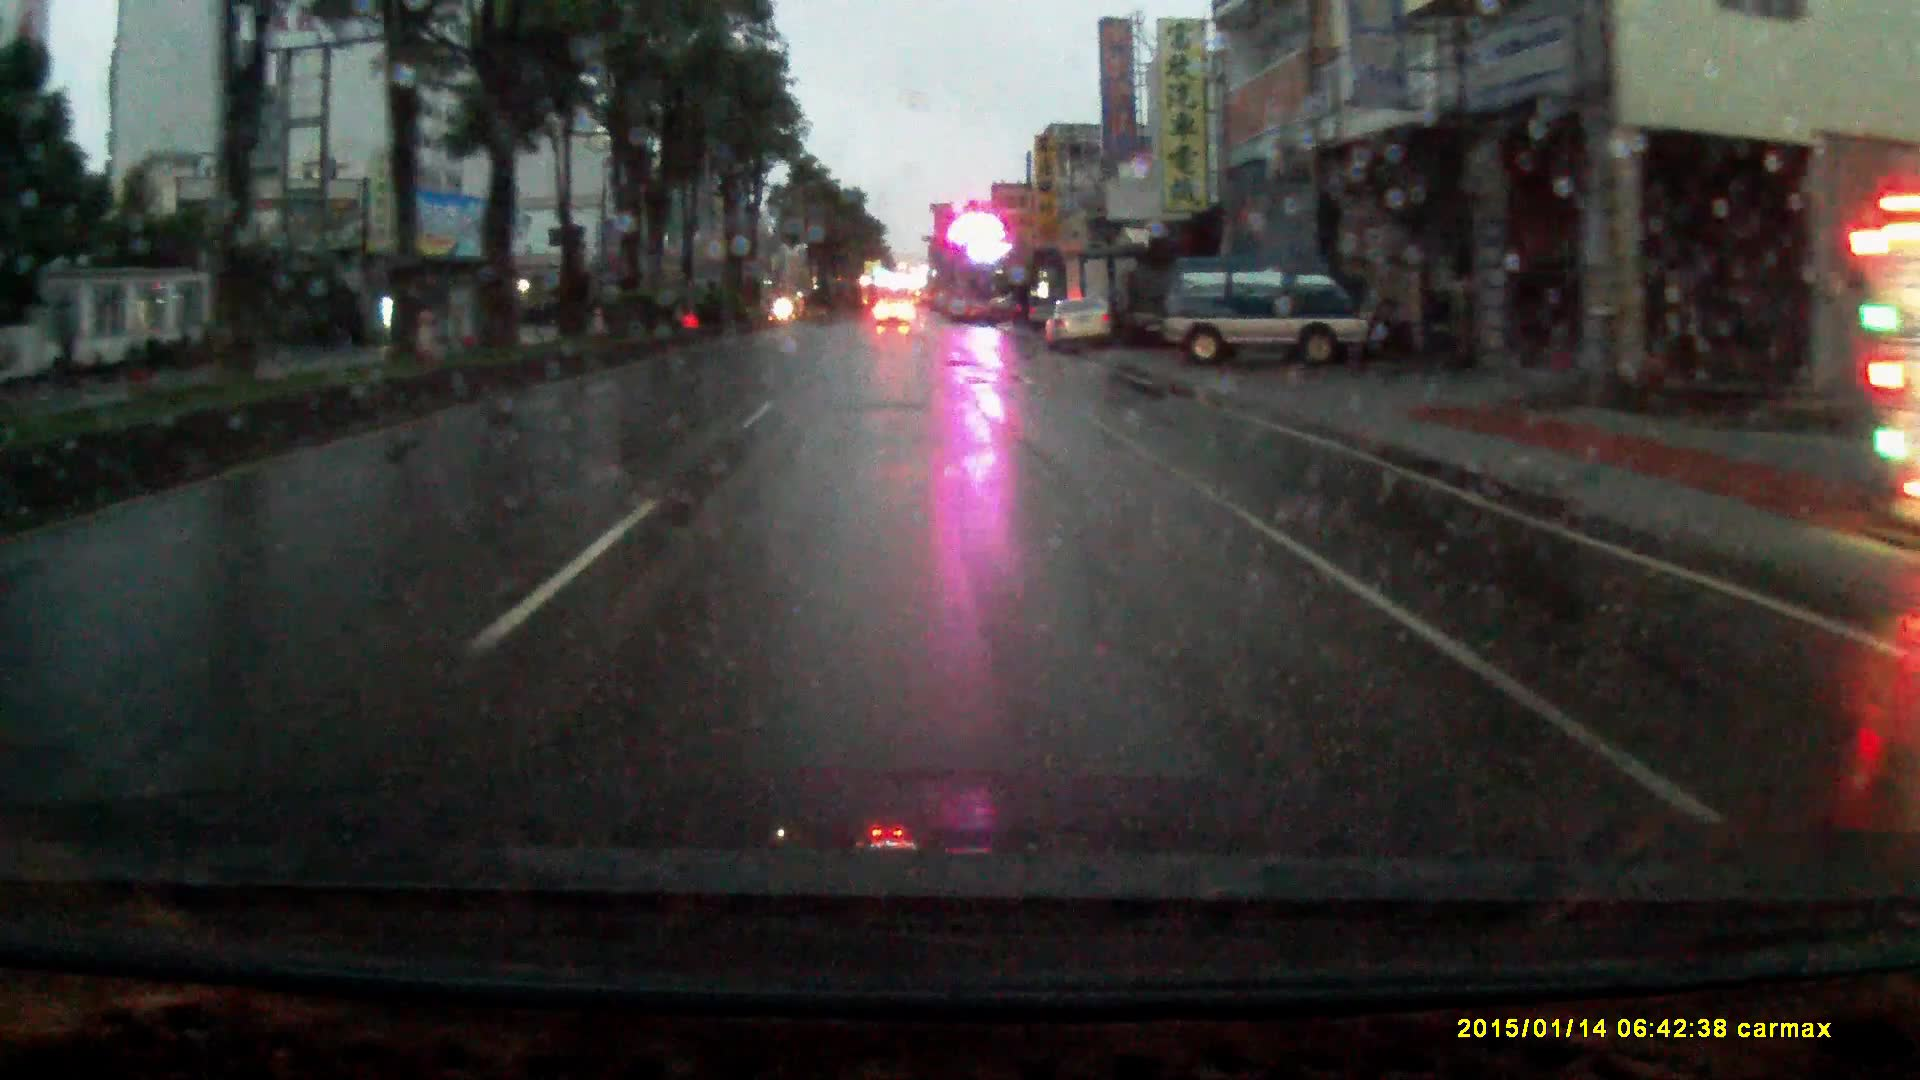vehicle: (1158, 251, 1394, 371), (1063, 248, 1145, 345), (1044, 295, 1113, 352), (876, 301, 913, 330)
